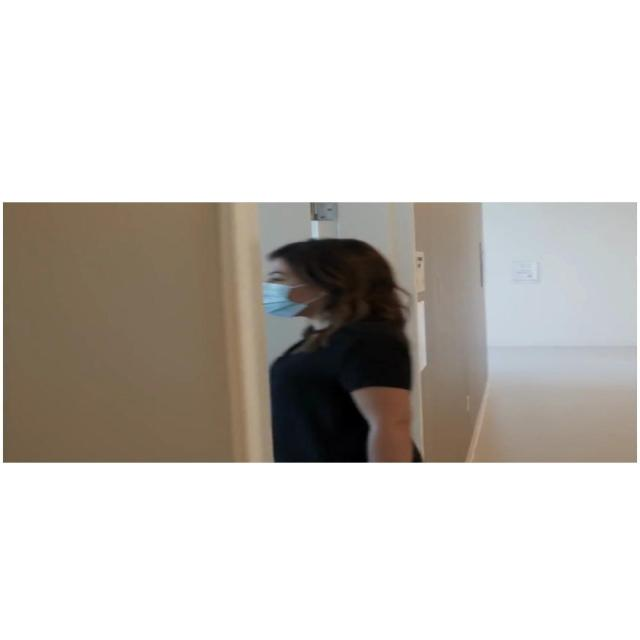Mask: (263, 260, 313, 318)
